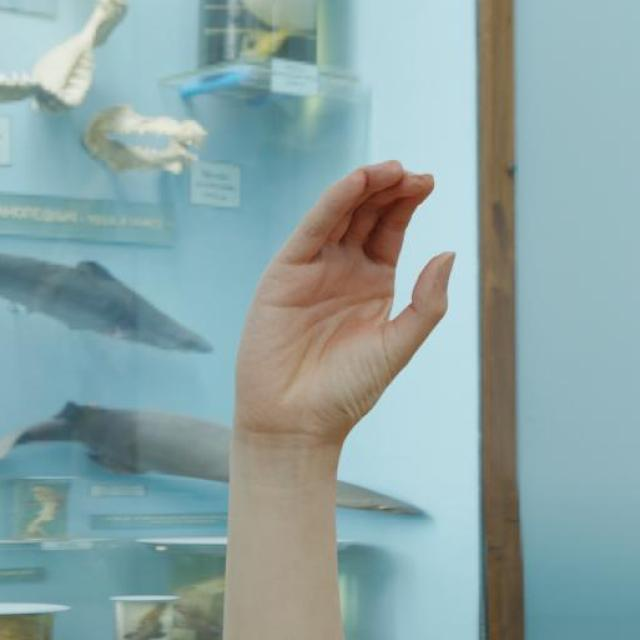C: (226, 156, 459, 447)
